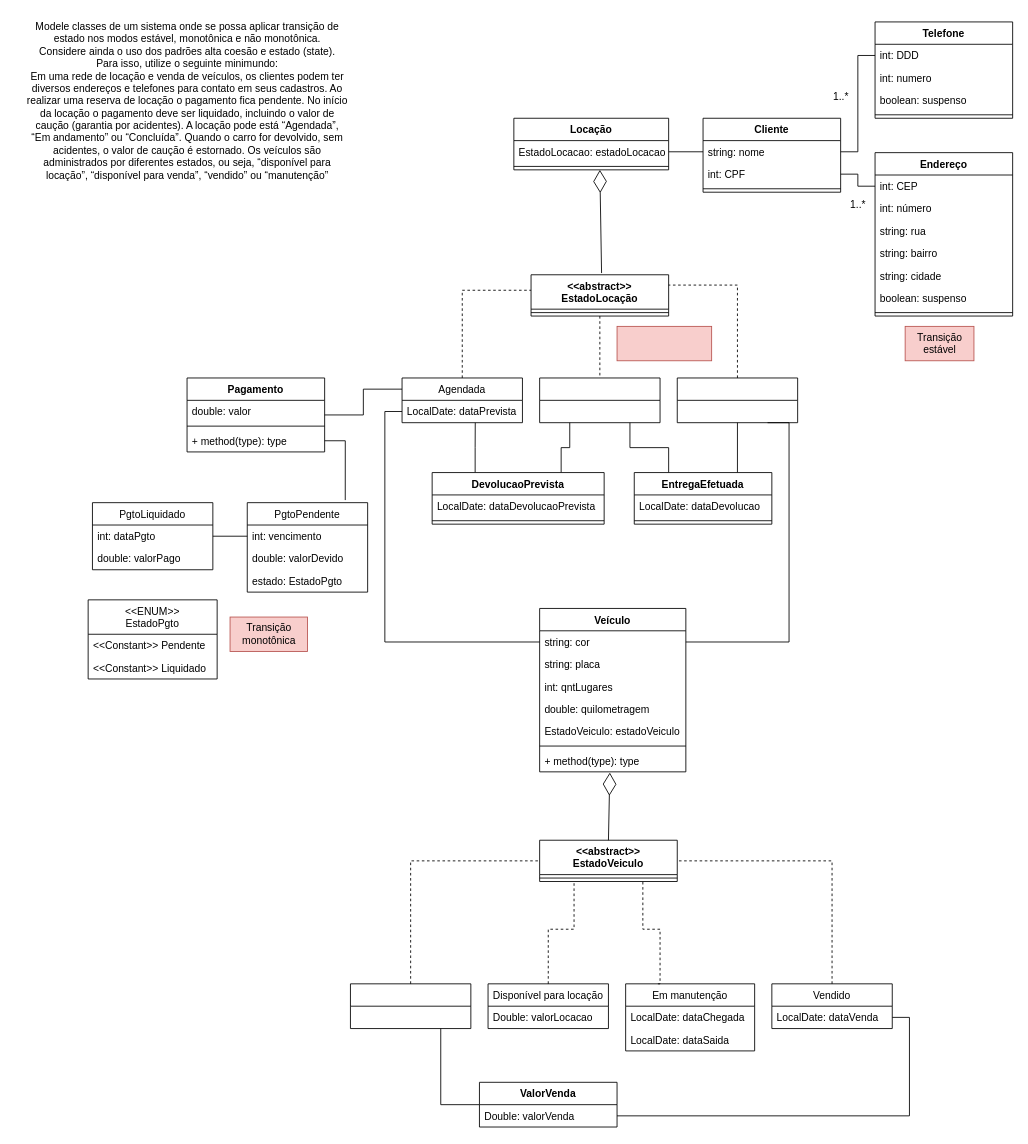
This 1028x1144 diagram has some shape labels left out. Here are the shapes that lost their labels. From the top down, the centre of each, then its label:
At point 664,343: "Transição não monotônica".
At point 599,400: "Em andamento".
At point 737,400: "Concluída".
At point 410,1006: "Disponível para venda".
